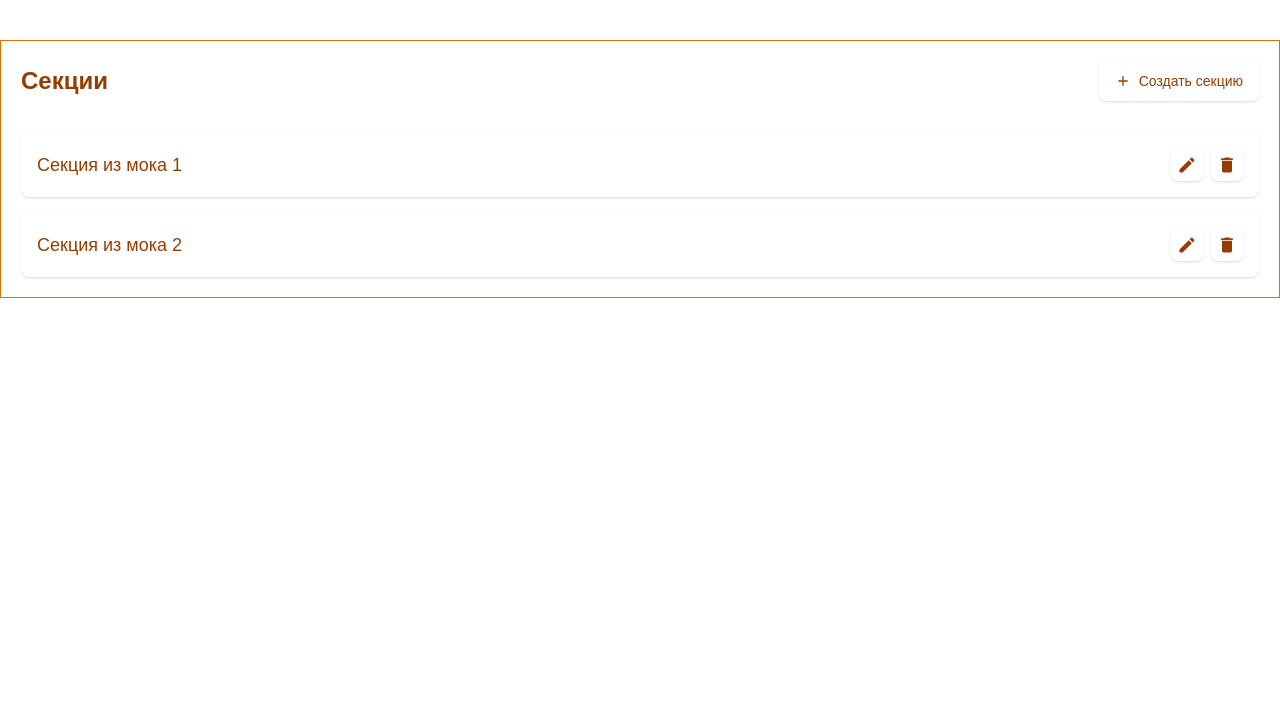
Test: SectionsPage › CRUD операции › должен создавать секцию
// ACT (Действие): Пользователь нажимает кнопку "Создать секцию".
Click the button "Создать секцию". click: (1179, 81)
box: [1099,61,1259,101]
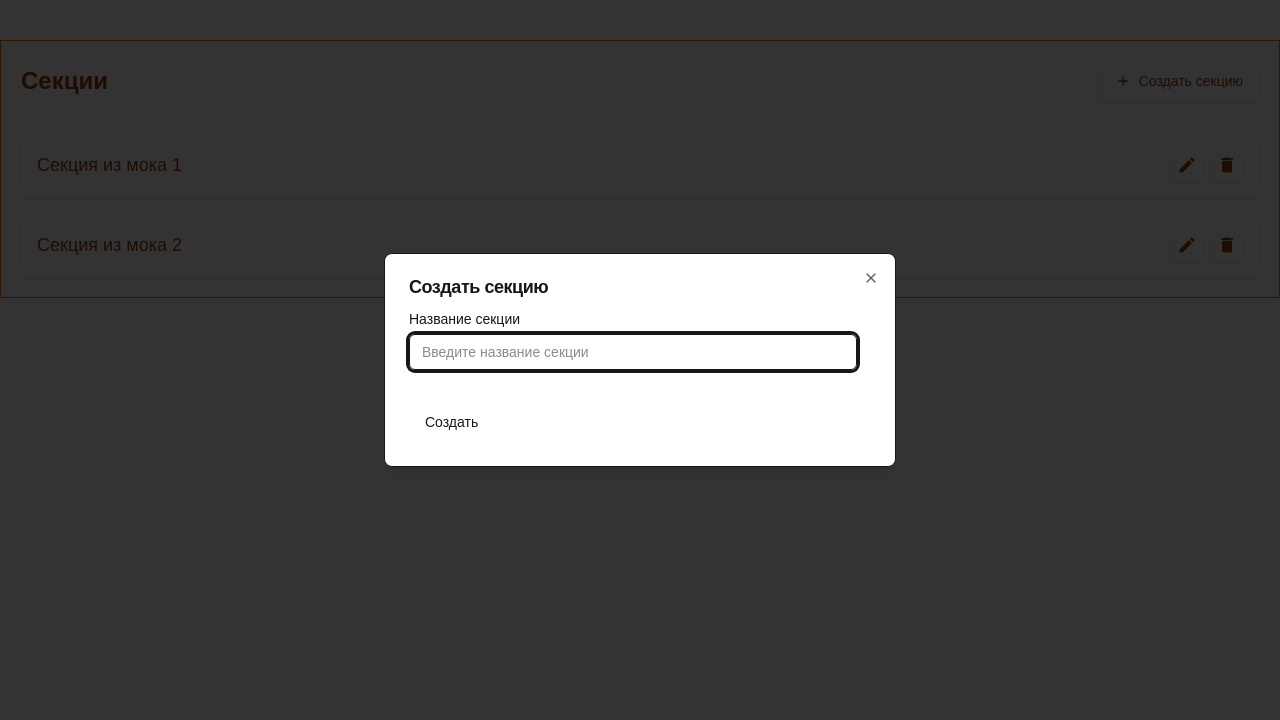
// ACT (Действие): Пользователь вводит название новой секции в поле ввода.
Type "Новая секция" into the field labelled "Название секции". click: (633, 352)
box: [409,334,857,370]
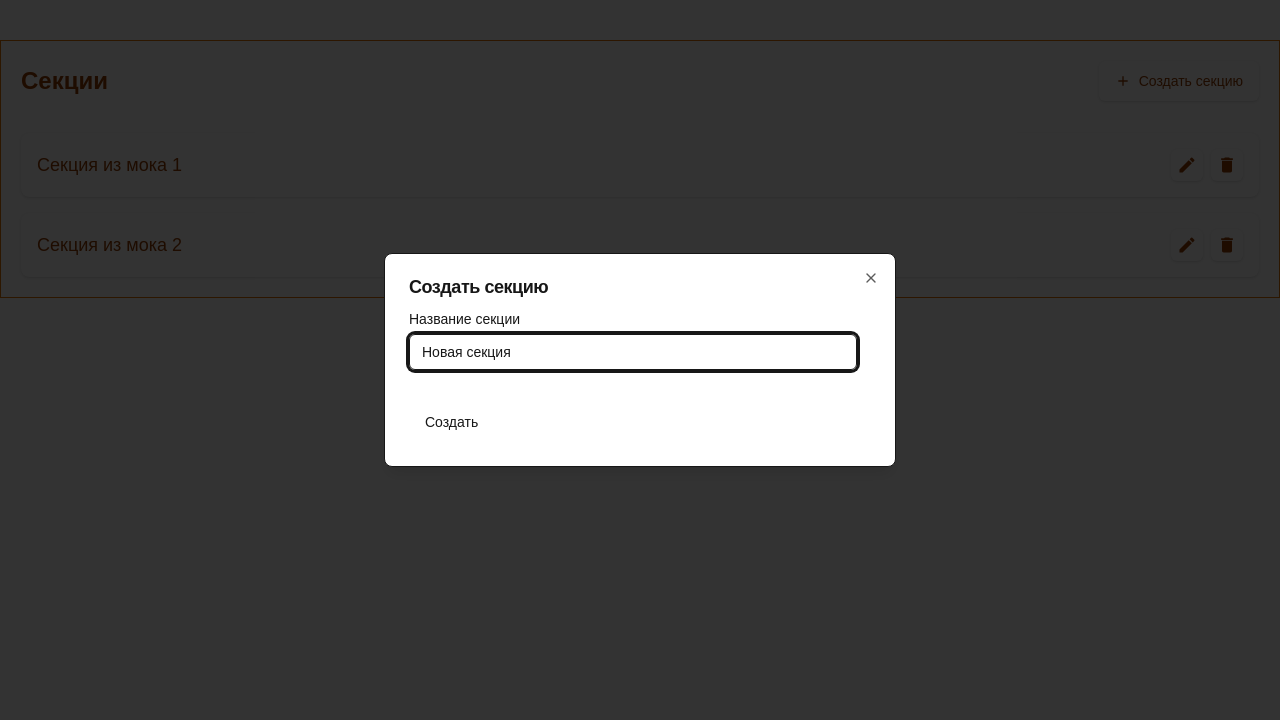
// ACT (Действие): Пользователь нажимает кнопку "Создать" в модальном окне.
Click the button "Создать". click: (452, 422)
box: [409,402,494,442]
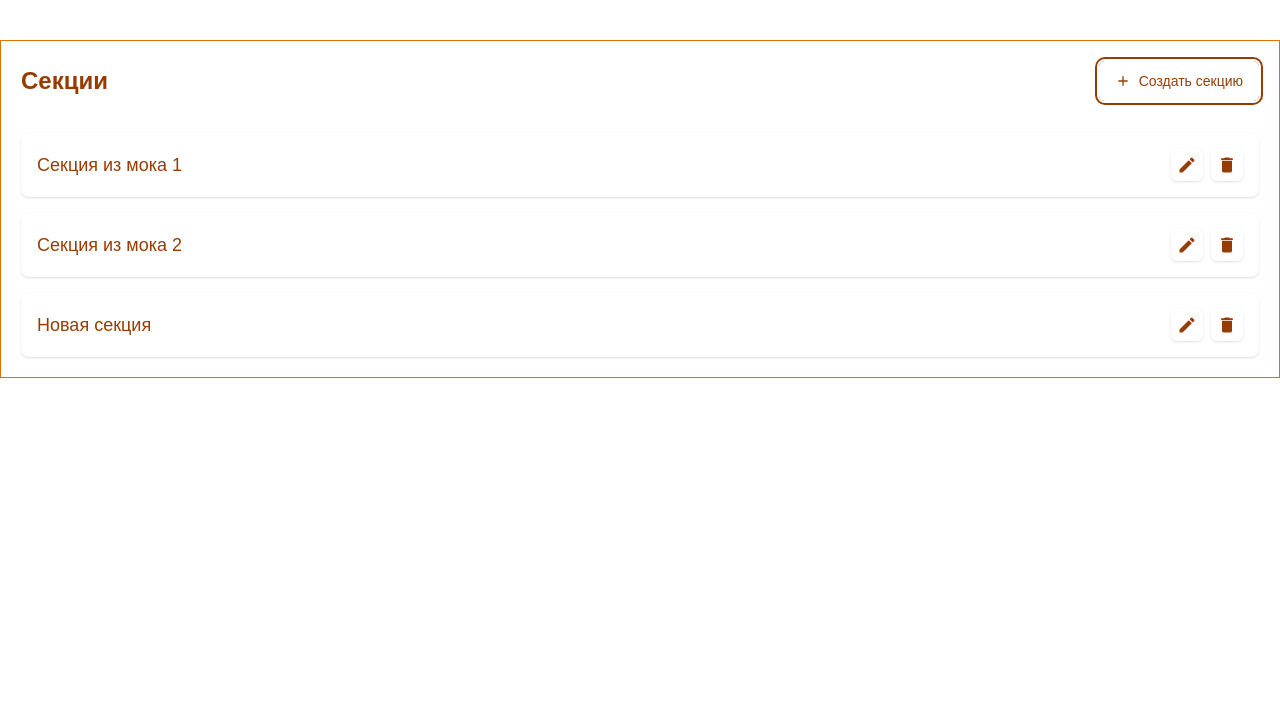
Expected: the text "Новая секция" is shown, [37,311,151,339]
